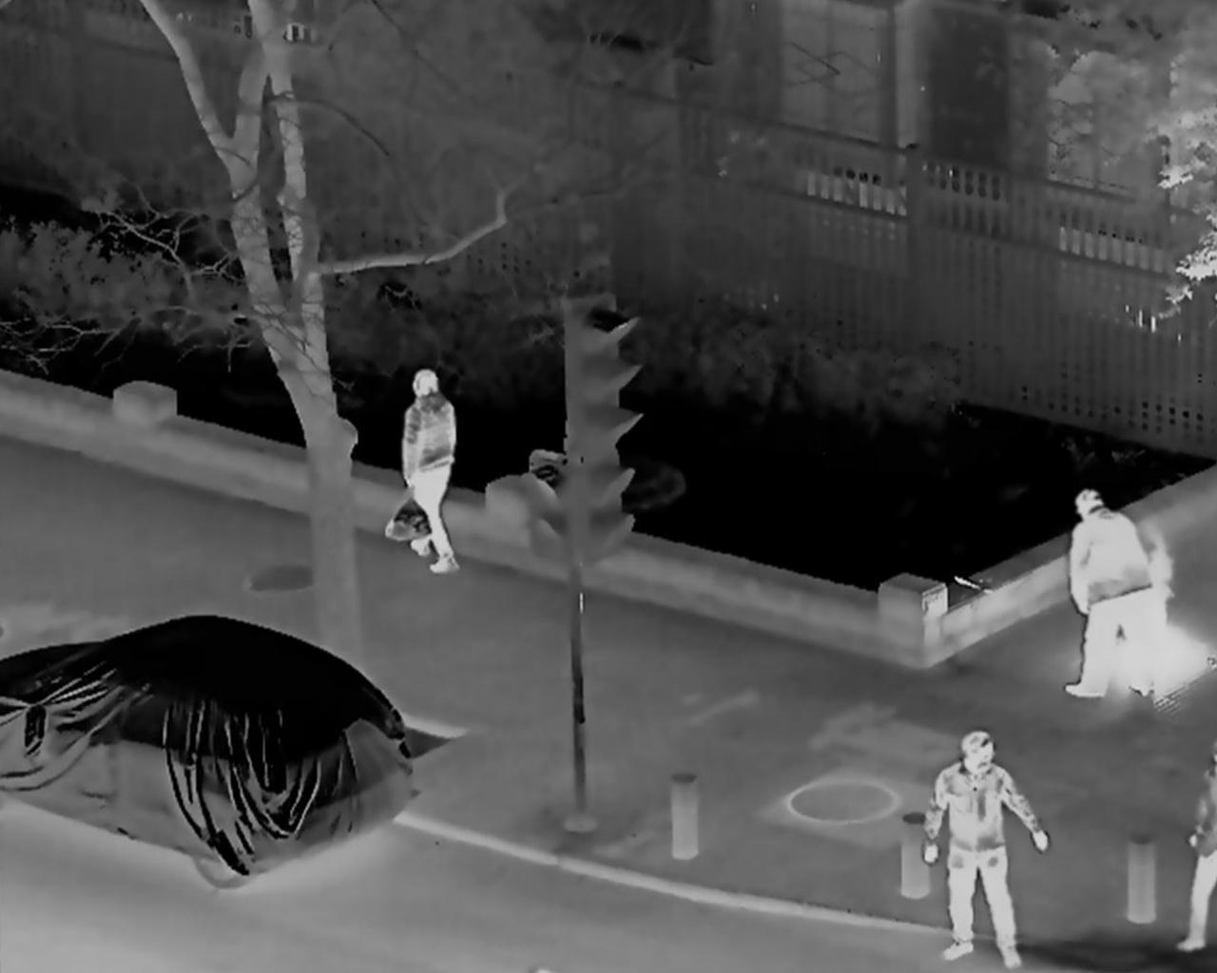person: (920, 725, 1048, 963), (1067, 483, 1154, 704), (398, 372, 463, 576)
